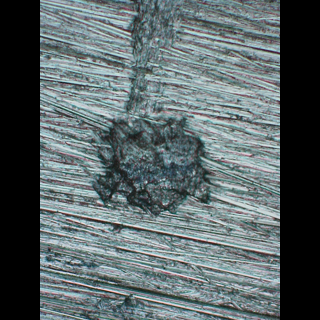d: (85, 118, 214, 215)
